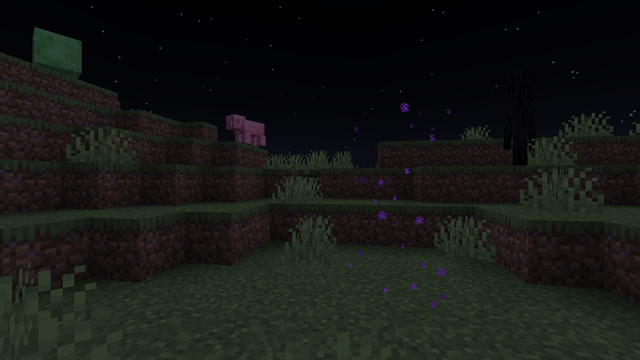cochons: (233, 119, 264, 146)
endermens: (503, 63, 537, 143)
slimes: (22, 27, 88, 78)
